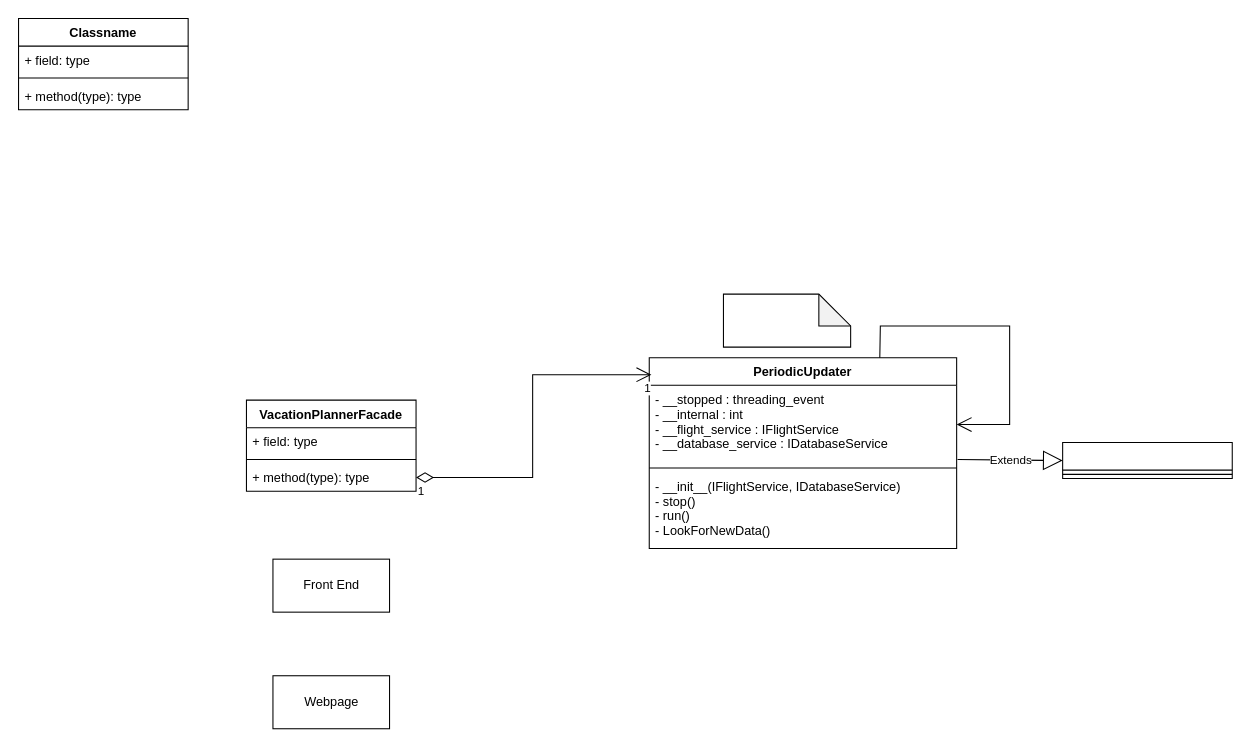
The diagram is 1251 pixels wide and 747 high, and some of its shapes have lost their labels. Each missing label, with the centre of its shape:
"Singleton" belongs at point 786,320.
"threading.Thread" belongs at point 1147,460.
